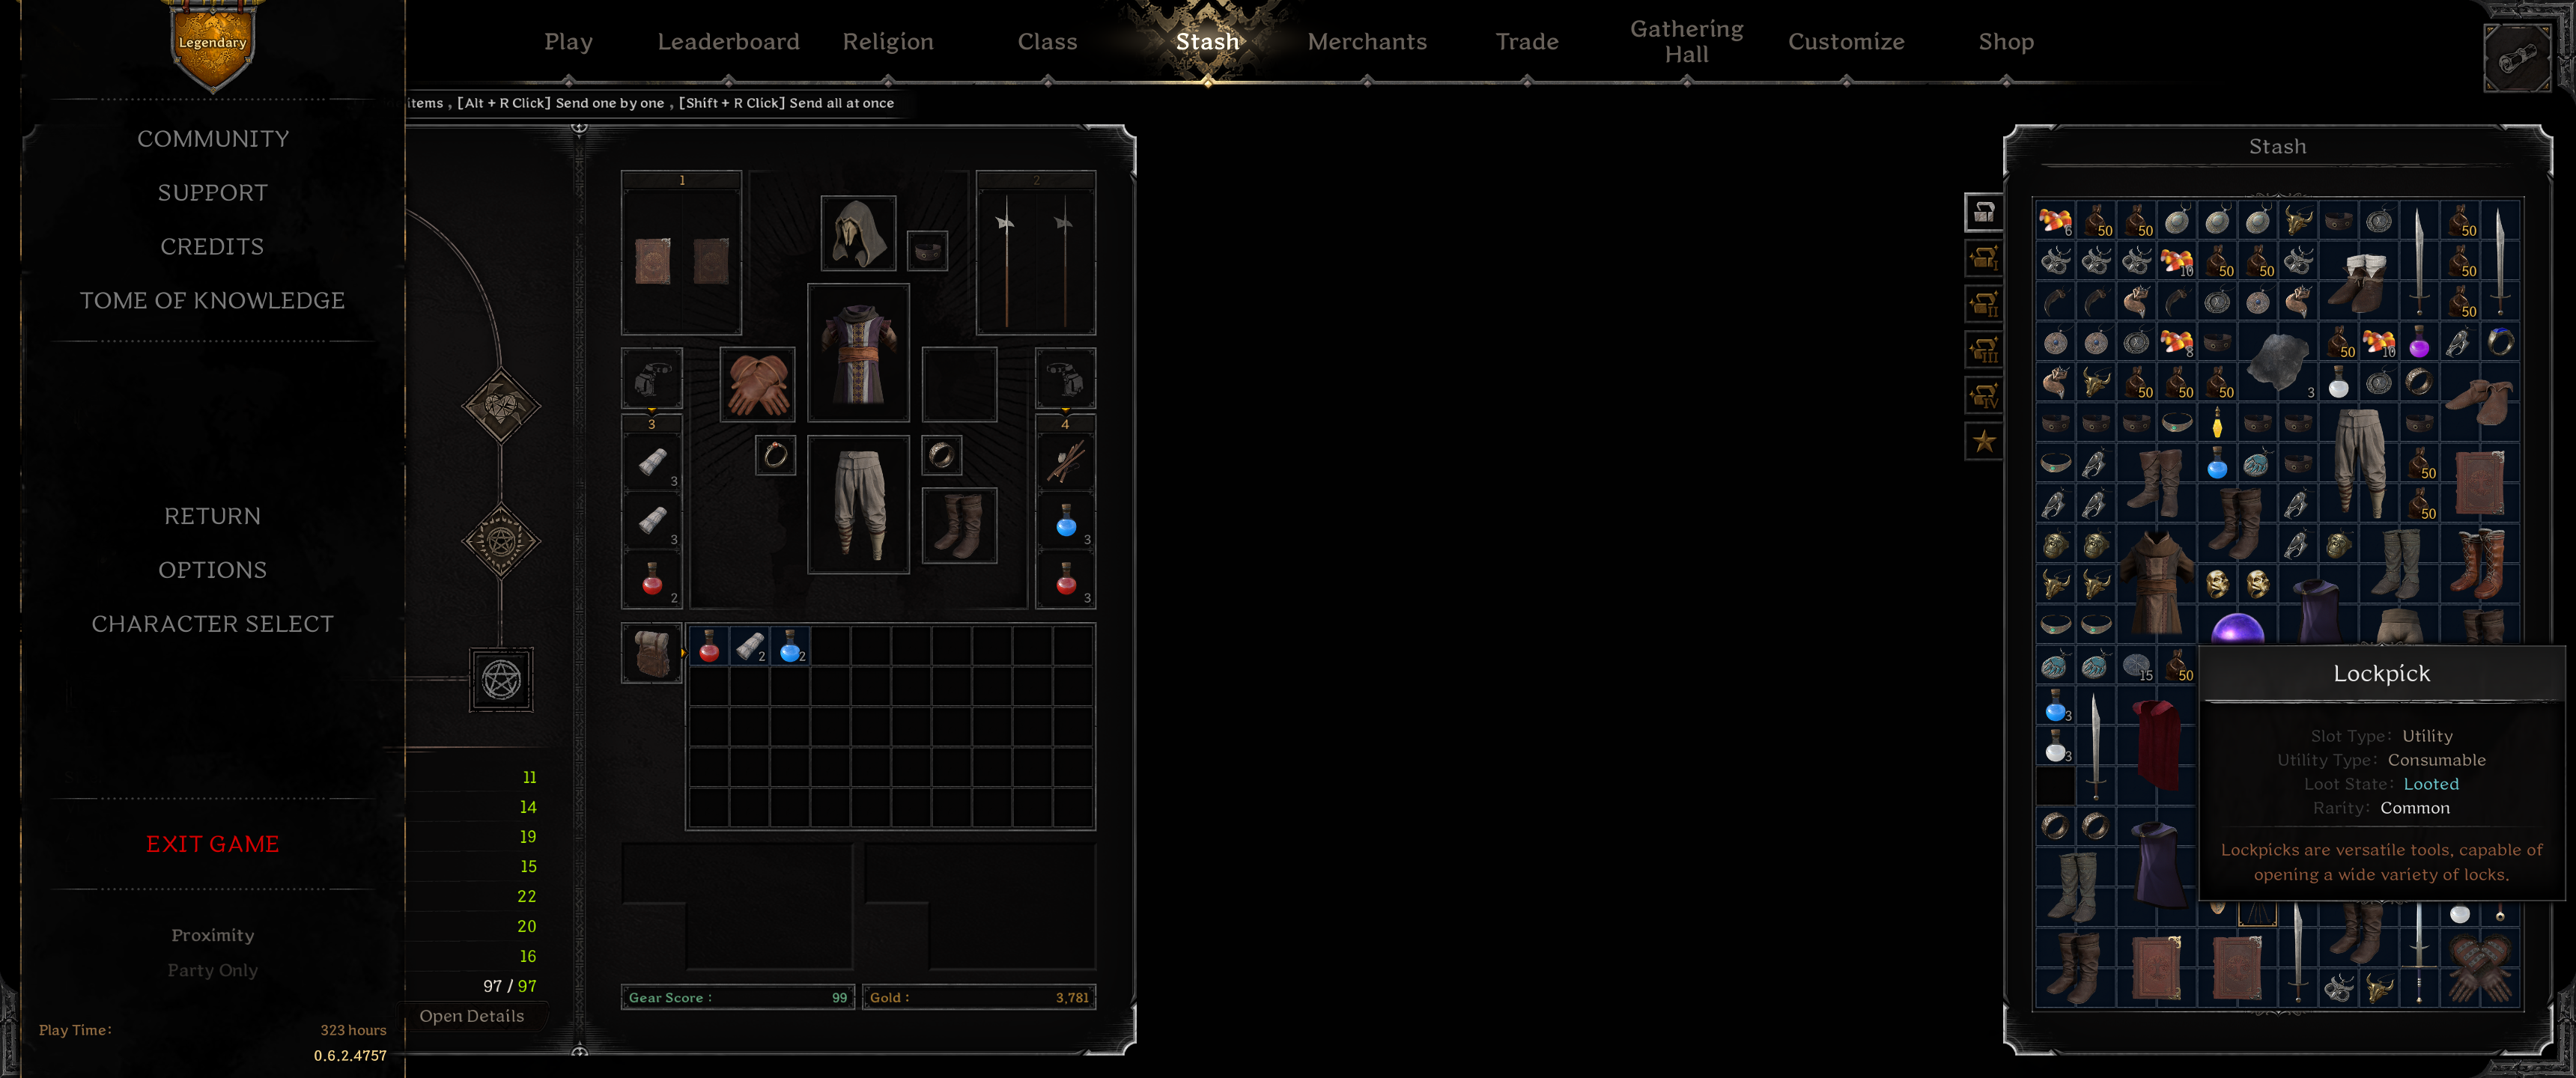Tooltip: (2198, 644, 2566, 902)
